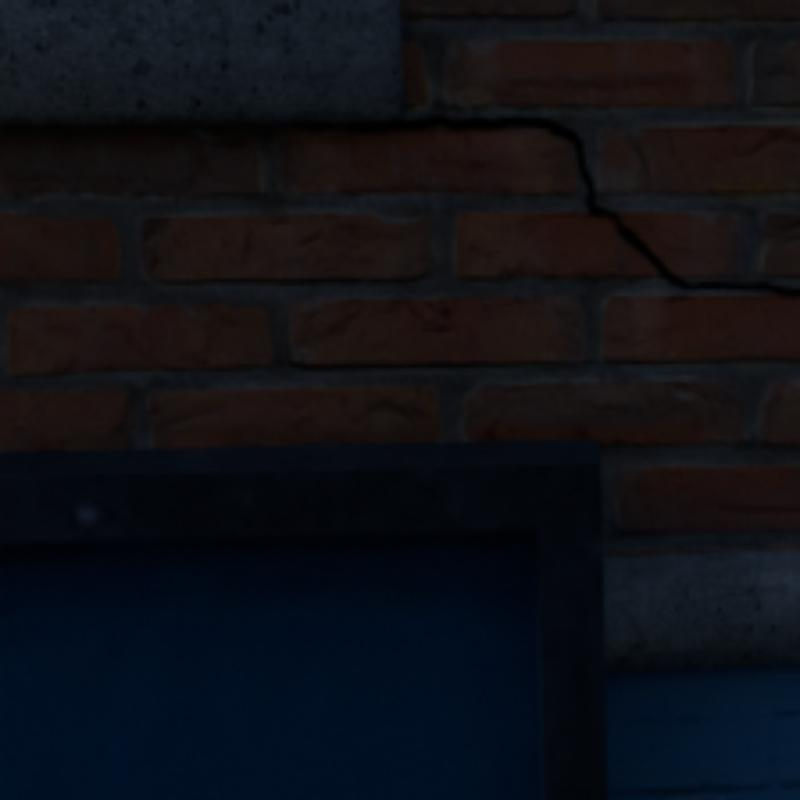pothole: (289, 118, 796, 293)
